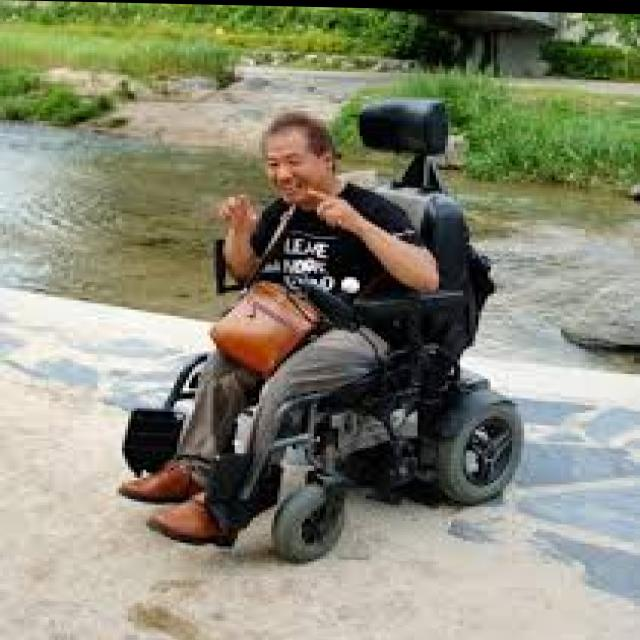wheelchair: (121, 89, 525, 561)
